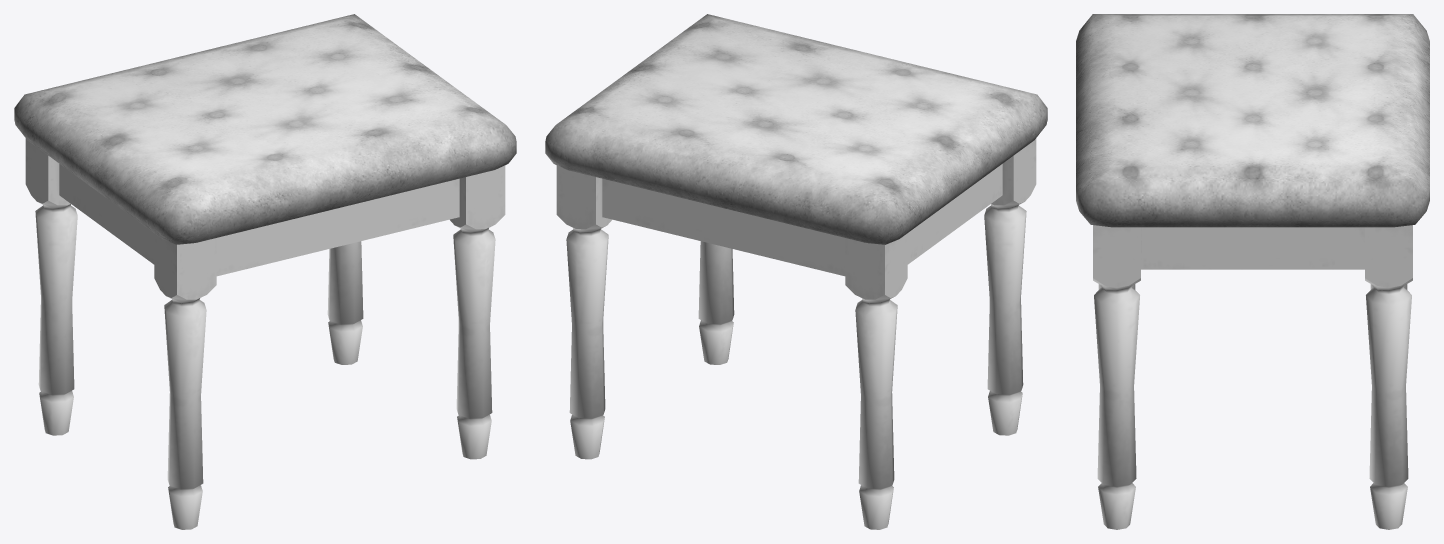
Rendered from PoufSmall.FBX.
The picture shows the model from 3 angles, left to right: view 1: azimuth 30°, elevation 25°; view 2: azimuth 150°, elevation 25°; view 3: azimuth 270°, elevation 25°; orthographic projection. The views are drawn at different scales.
Visible parts, largest first — view 1: PoufSmall; view 2: PoufSmall; view 3: PoufSmall.
Boxes of the visible parts, <box> form: PoufSmall: <box>14,14,516,529</box>; PoufSmall: <box>545,14,1047,529</box>; PoufSmall: <box>1076,14,1429,529</box>.
Bounding box in the file's own units: 49.73 × 45.27 × 40.55.
